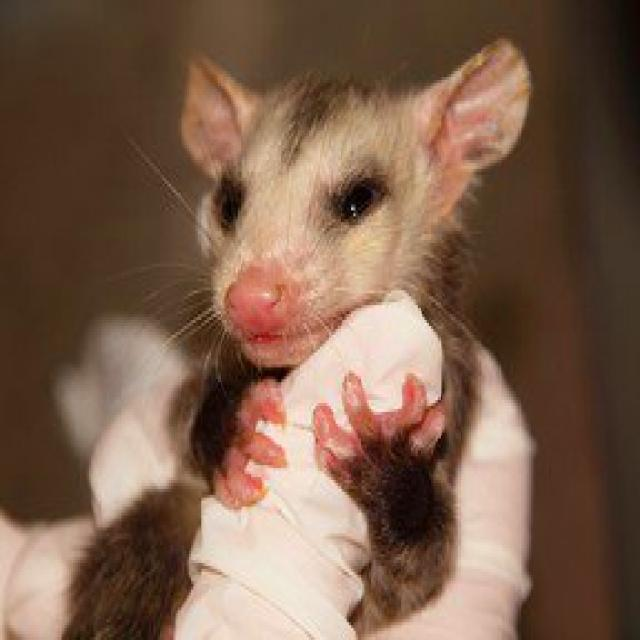possum: (62, 39, 529, 637)
